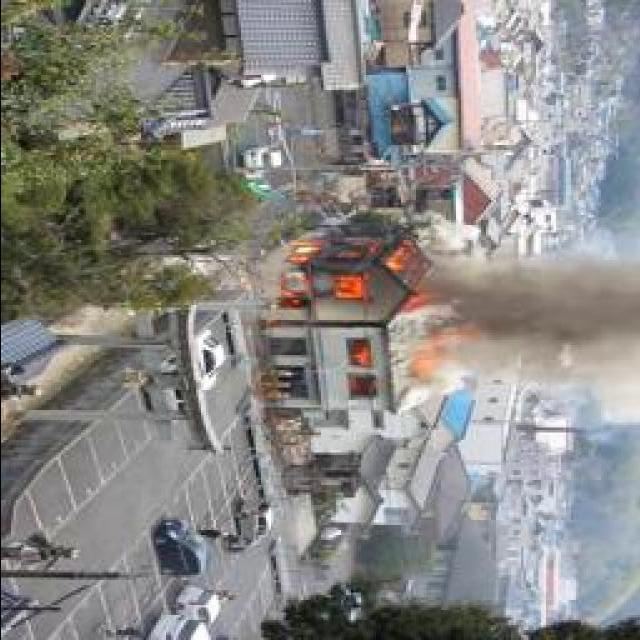Fire: (276, 232, 398, 304), (345, 339, 373, 374)
